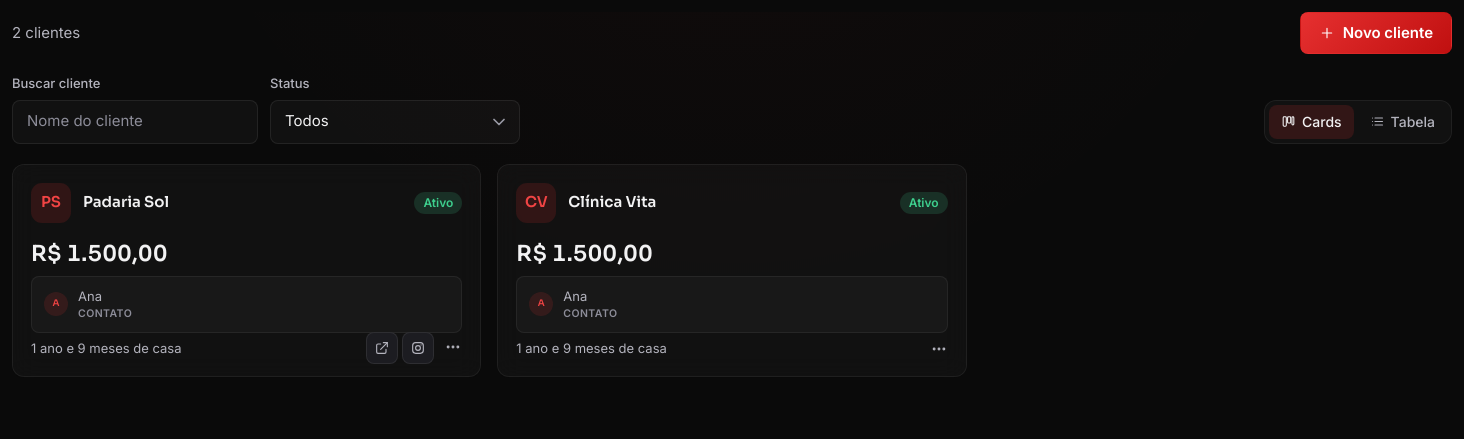
Test: ClientesPage › quem não é liderança edita, mas não exclui clientes
The image size is (1464, 439).
Step 1. Click the button named "Ações de Clínica Vita" → (939, 349), box x1=924 y1=334 x2=954 y2=364
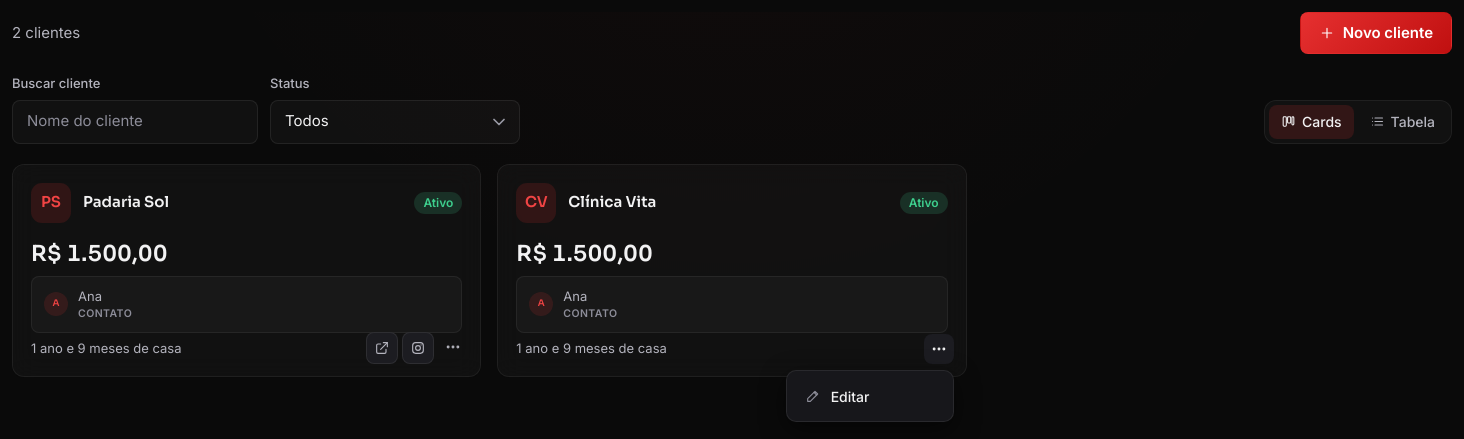
Expected: the menu items read "Editar", in this order, x1=793 y1=377 x2=947 y2=415
